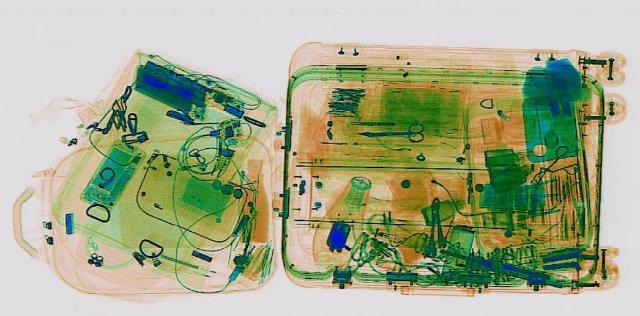Scissors: (358, 122, 424, 140)
